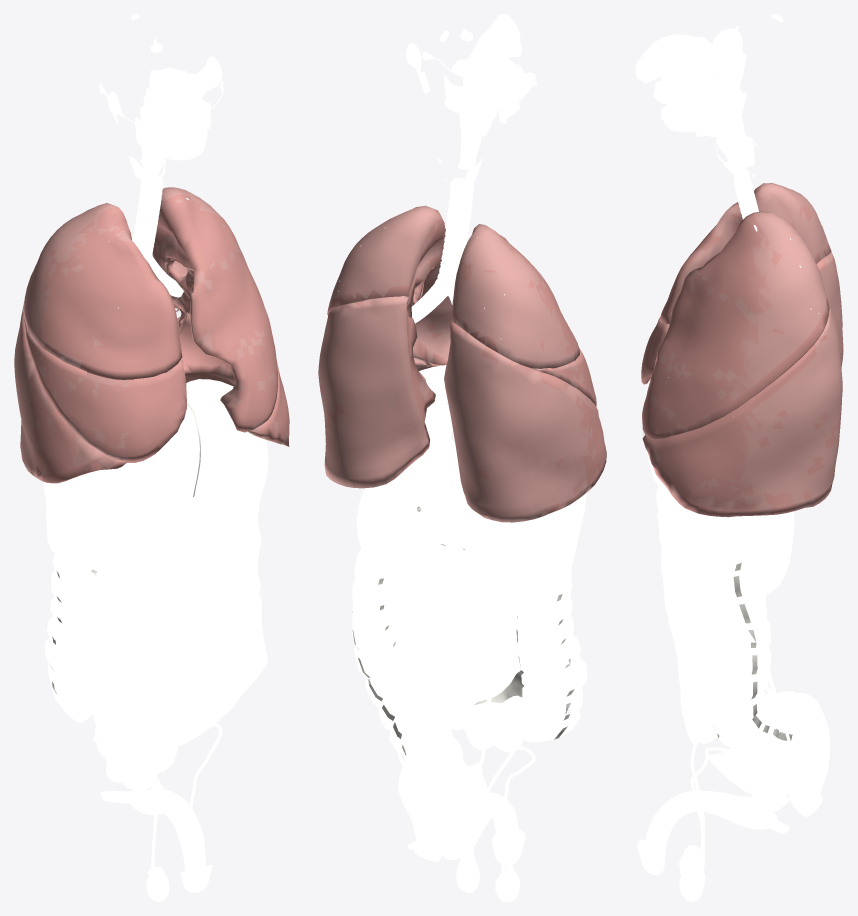
Rendered from visceri.glb.
3 views of the same model, side by side, from view 1: azimuth 30°, elevation 25°; view 2: azimuth 150°, elevation 25°; view 3: azimuth 270°, elevation 25° (orthographic). The views are drawn at different scales.
Visible parts, largest first — view 1: Greater omentum, Superior lobe of right lung, Liver, Superior lobe of left lung, Middle lobe of right lung, Pleura, Inferior lobe of right lung, Ascending colon, Stomach, Inferior lobe of left lung, Corpus cavernosum of penis, Gingiva (+8 smaller); view 2: Pleura, Inferior lobe of right lung, Inferior lobe of left lung, Jejunum, Superior lobe of right lung, Superior lobe of left lung, Ascending colon, Descending colon, Sigmoid colon, Liver, Kidney.l, Kidney.r (+21 smaller); view 3: Superior lobe of left lung, Inferior lobe of left lung, Pleura, Descending colon, Greater omentum, Superior lobe of right lung, Sigmoid colon, Corpus cavernosum of penis, Mucosa of nasal cavity, Kidney.l, Urinary bladder, Gingiva (+17 smaller).
Part boxes in pixels (bbox=[...]): Greater omentum: bbox=[64, 488, 267, 748]; Superior lobe of right lung: bbox=[23, 203, 182, 379]; Liver: bbox=[43, 379, 260, 558]; Superior lobe of left lung: bbox=[152, 187, 277, 432]; Middle lobe of right lung: bbox=[24, 319, 186, 462]; Pleura: bbox=[15, 188, 287, 478]; Inferior lobe of right lung: bbox=[14, 302, 127, 483]; Ascending colon: bbox=[45, 553, 97, 722]; Stomach: bbox=[169, 438, 268, 534]; Inferior lobe of left lung: bbox=[173, 261, 289, 446]; Corpus cavernosum of penis: bbox=[100, 778, 205, 871]; Gingiva: bbox=[135, 98, 211, 160]; Pleura: bbox=[319, 206, 597, 521]; Inferior lobe of right lung: bbox=[444, 321, 606, 522]; Inferior lobe of left lung: bbox=[318, 296, 442, 488]; Jejunum: bbox=[390, 529, 532, 752]; Superior lobe of right lung: bbox=[451, 224, 579, 368]; Superior lobe of left lung: bbox=[327, 205, 452, 365]; Ascending colon: bbox=[515, 566, 587, 742]; Descending colon: bbox=[352, 548, 464, 776]; Sigmoid colon: bbox=[398, 730, 462, 861]; Liver: bbox=[419, 365, 586, 576]; Kidney.l: bbox=[356, 484, 417, 575]; Kidney.r: bbox=[485, 525, 534, 617]; Superior lobe of left lung: bbox=[642, 211, 829, 439]; Inferior lobe of left lung: bbox=[642, 301, 842, 517]; Pleura: bbox=[643, 183, 842, 513]; Descending colon: bbox=[712, 530, 817, 759]; Greater omentum: bbox=[657, 500, 726, 744]; Superior lobe of right lung: bbox=[659, 183, 831, 324]; Sigmoid colon: bbox=[788, 693, 830, 816]; Corpus cavernosum of penis: bbox=[644, 790, 789, 856]; Mucosa of nasal cavity: bbox=[635, 34, 710, 83]; Kidney.l: bbox=[753, 511, 794, 594]; Urinary bladder: bbox=[708, 751, 797, 797]; Gingiva: bbox=[653, 74, 717, 131].
Bounding box in the file's own units: 0.2618 × 0.8933 × 0.192.
